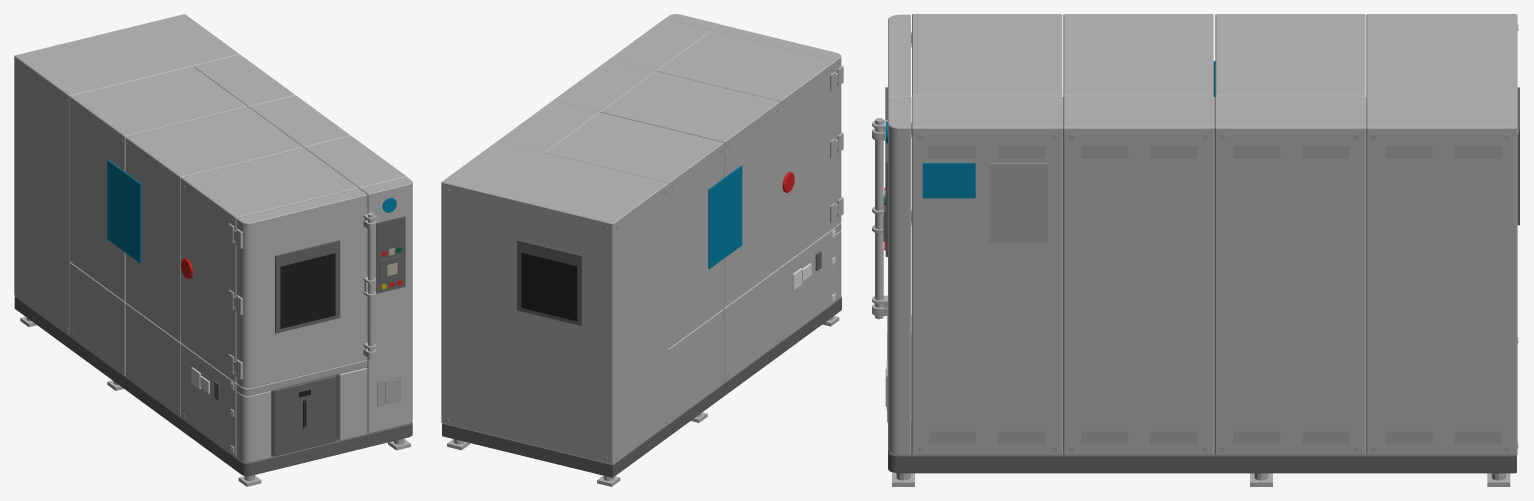
The model's file is SYL2_03.fbx.
The picture shows the model from 3 angles, left to right: view 1: azimuth 30°, elevation 25°; view 2: azimuth 150°, elevation 25°; view 3: azimuth 270°, elevation 25°; orthographic projection. The views are drawn at different scales.
Visible parts, largest first — view 1: SYL2_03; view 2: SYL2_03; view 3: SYL2_03.
Boxes of the visible parts, left/top/right/bottom form: SYL2_03: left=14, top=14, right=412, bottom=486; SYL2_03: left=441, top=14, right=843, bottom=486; SYL2_03: left=872, top=14, right=1519, bottom=486.
Size of the model in its own units: 97.5 by 142 by 230.
